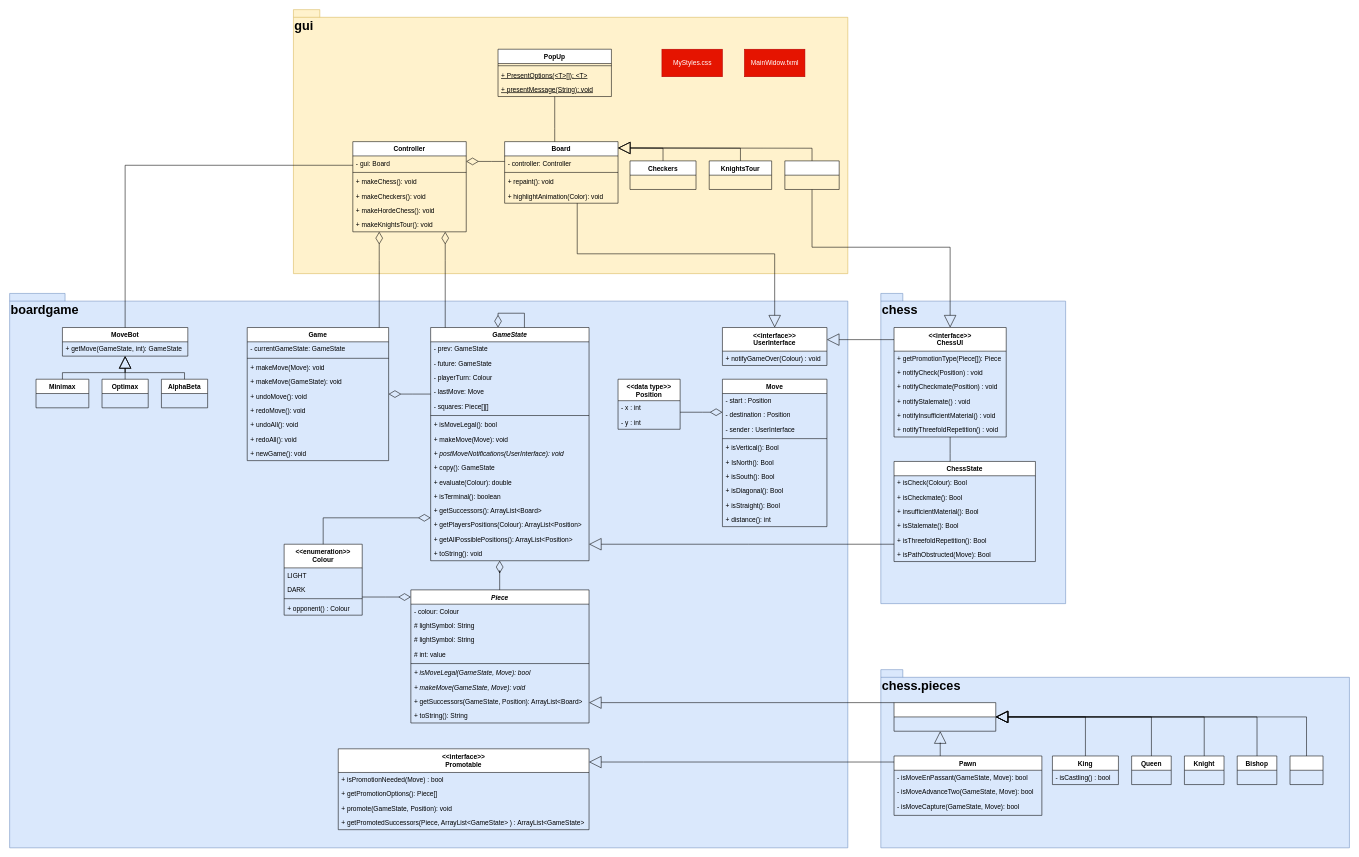
This 1359x857 diagram has some shape labels left out. The centre of each missing label's shape, as x and y in pixels:
Chessboard: point (811, 174)
ChessPiece: point (944, 716)
Rook: point (1306, 770)
